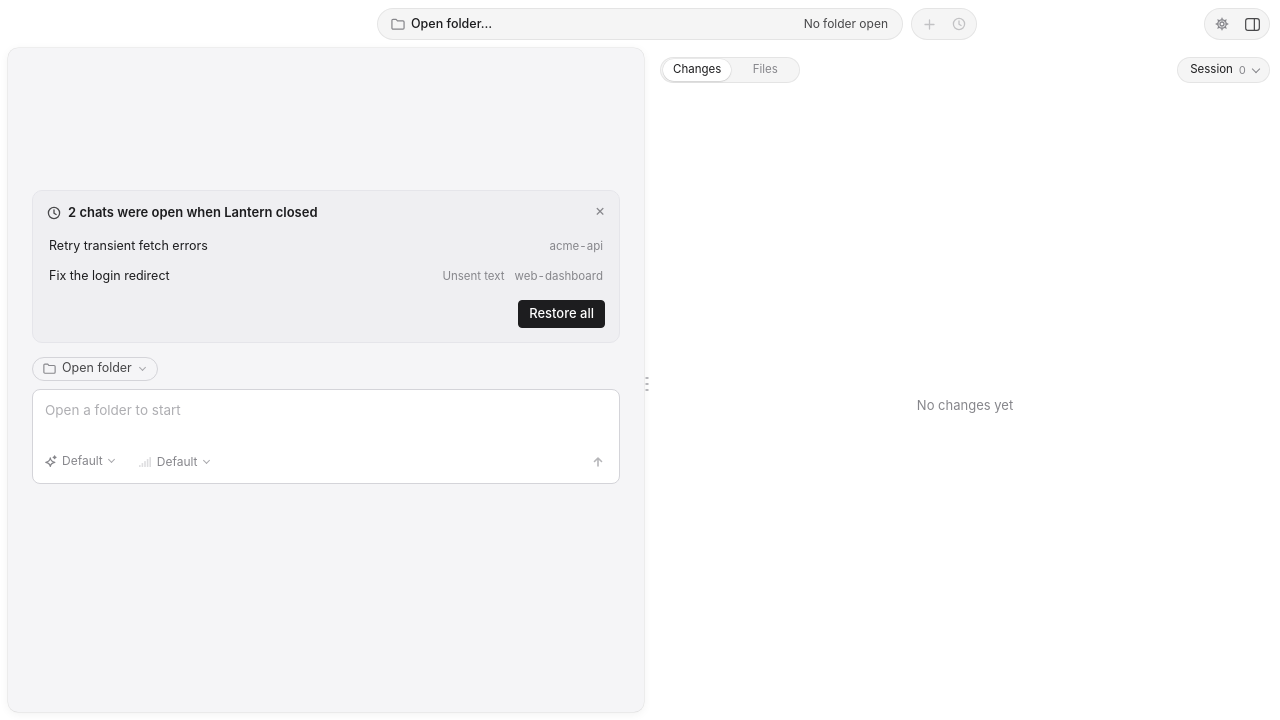
Test case: restoring chats at launch › brings one back on its own, and keeps offering the rest
Check: the text "2 chats were open when Lantern closed" is shown, box x1=47 y1=203 x2=318 y2=222
Click the button "Retry transient fetch errors acme-api": (128, 245) x1=41 y1=230 x2=611 y2=261
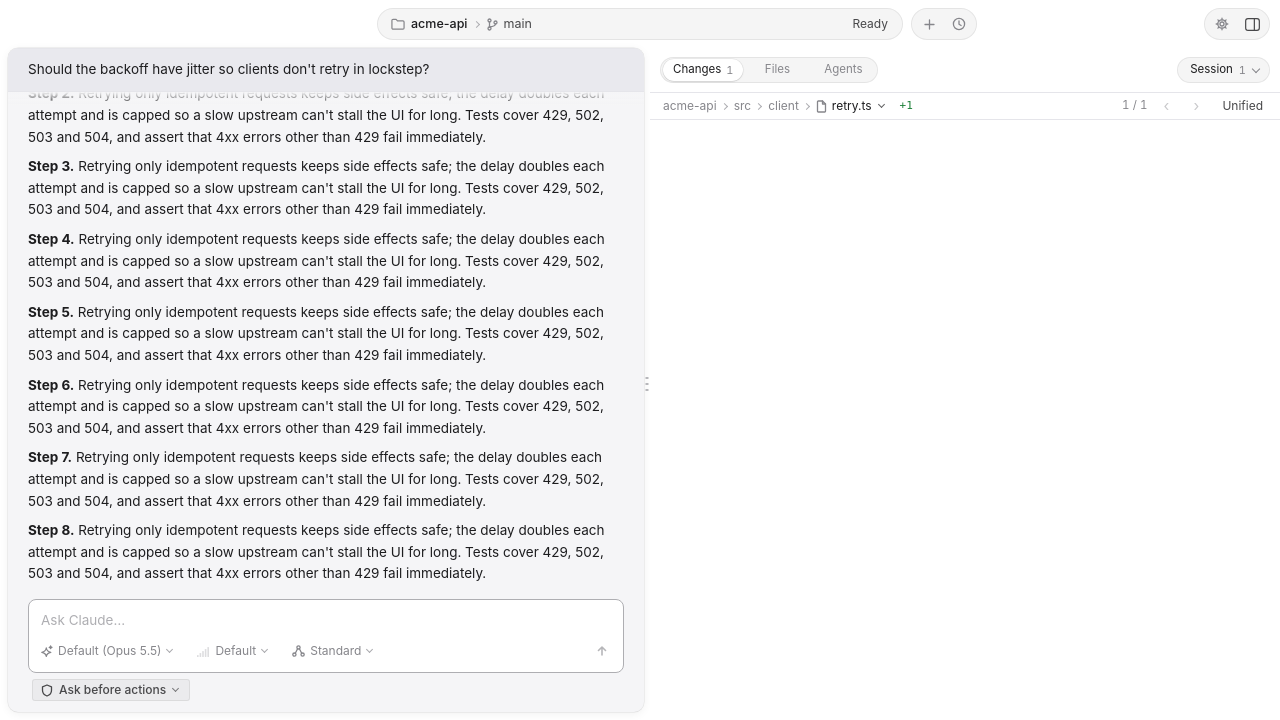
Check: the text "Should the backoff have jitter so clients don't retry in lockstep?" is shown, box x1=8 y1=48 x2=644 y2=92
